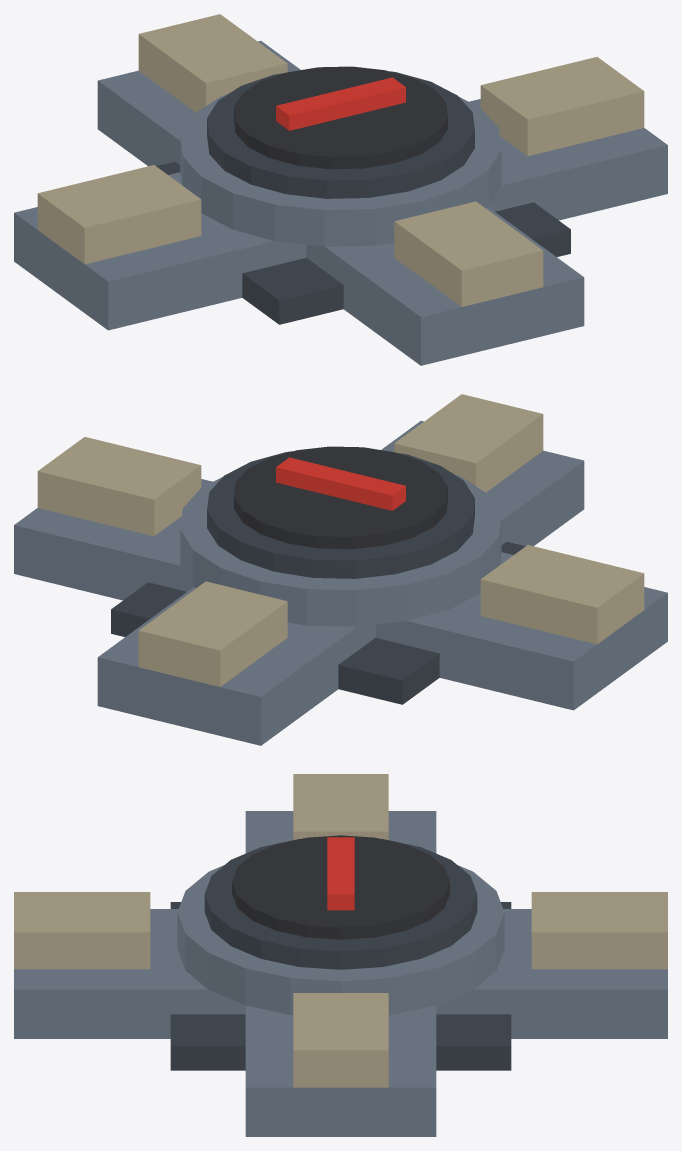
The model's file is Building_PowerSwitch__Off.glb.
3 renders of one model, top to bottom at view 1: azimuth 30°, elevation 25°; view 2: azimuth 150°, elevation 25°; view 3: azimuth 270°, elevation 25°, orthographic.
Parts seen in each view (by area): view 1: PowerSwitch__Off; view 2: PowerSwitch__Off; view 3: PowerSwitch__Off.
Part boxes in pixels (box(x1,y1,x2,y2)): PowerSwitch__Off: box(14, 14, 667, 365); PowerSwitch__Off: box(14, 394, 667, 745); PowerSwitch__Off: box(14, 774, 667, 1136).
Size of the model in its own units: 0.96 by 0.215 by 0.96.
1 material, 1 textured.
